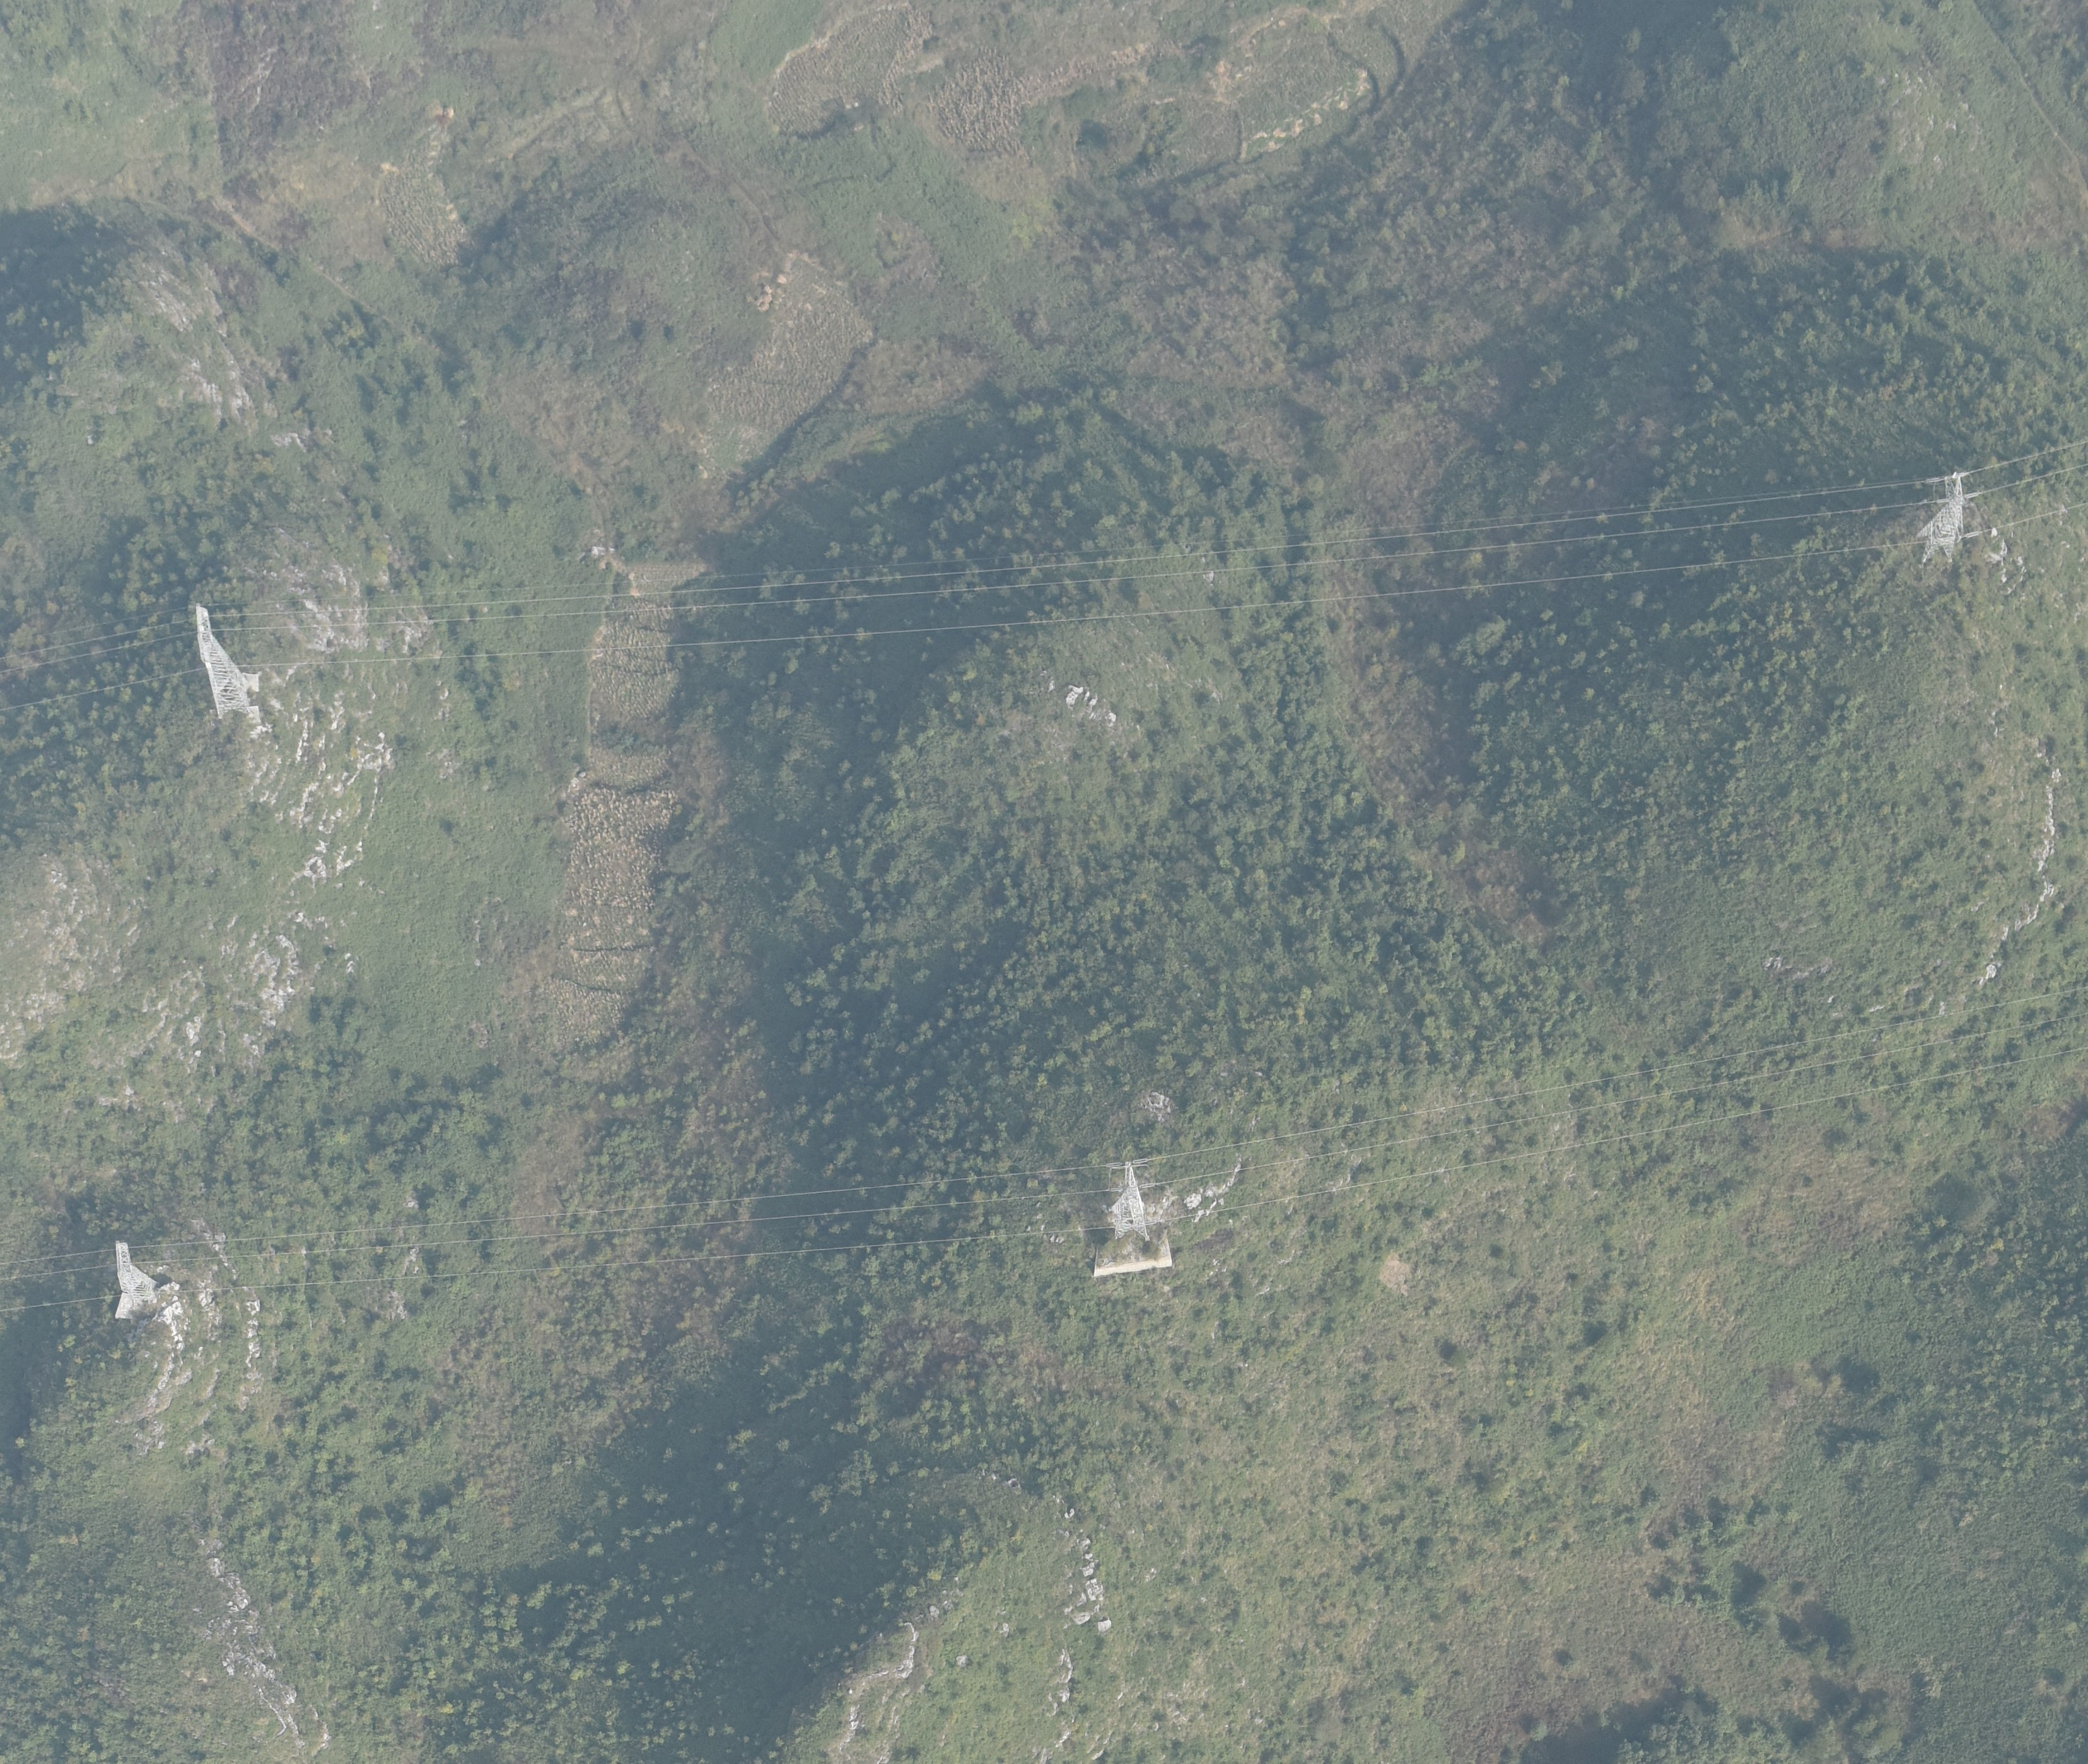cable-tower: (194, 602, 252, 716), (1916, 471, 1981, 563), (1106, 1157, 1155, 1241), (114, 1241, 158, 1321)
